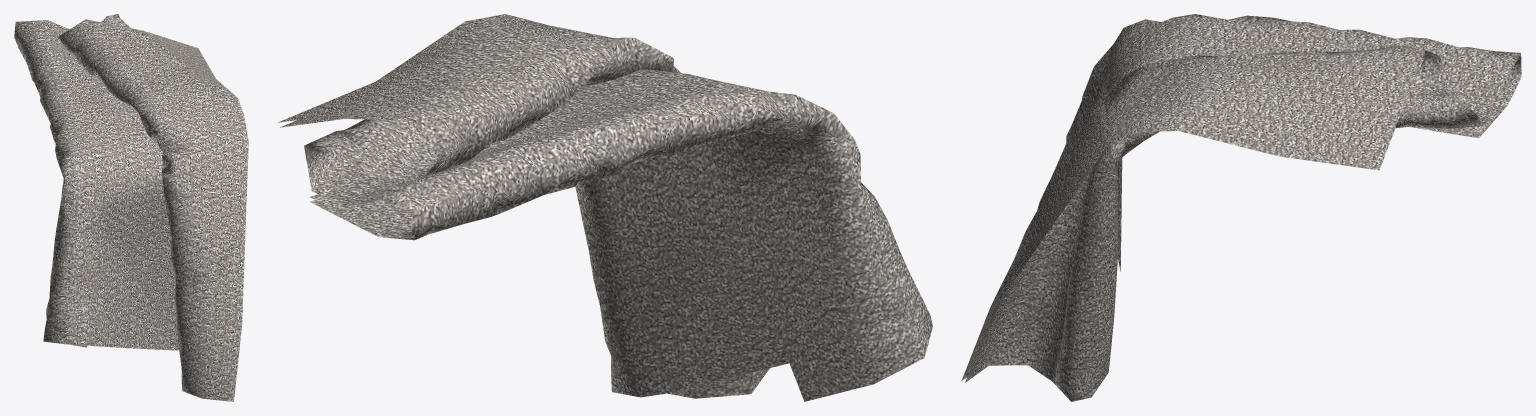
Rendered from Rag.FBX.
The picture shows the model from 3 angles, left to right: view 1: azimuth 30°, elevation 25°; view 2: azimuth 150°, elevation 25°; view 3: azimuth 270°, elevation 25°; orthographic projection. The views are drawn at different scales.
Parts seen in each view (by area): view 1: Rag; view 2: Rag; view 3: Rag.
Part boxes in pixels (bbox=[...]): Rag: bbox=[14, 14, 248, 401]; Rag: bbox=[278, 14, 932, 401]; Rag: bbox=[961, 14, 1521, 401].
Bounding box in the file's own units: 19.18 × 17.75 × 25.85.
